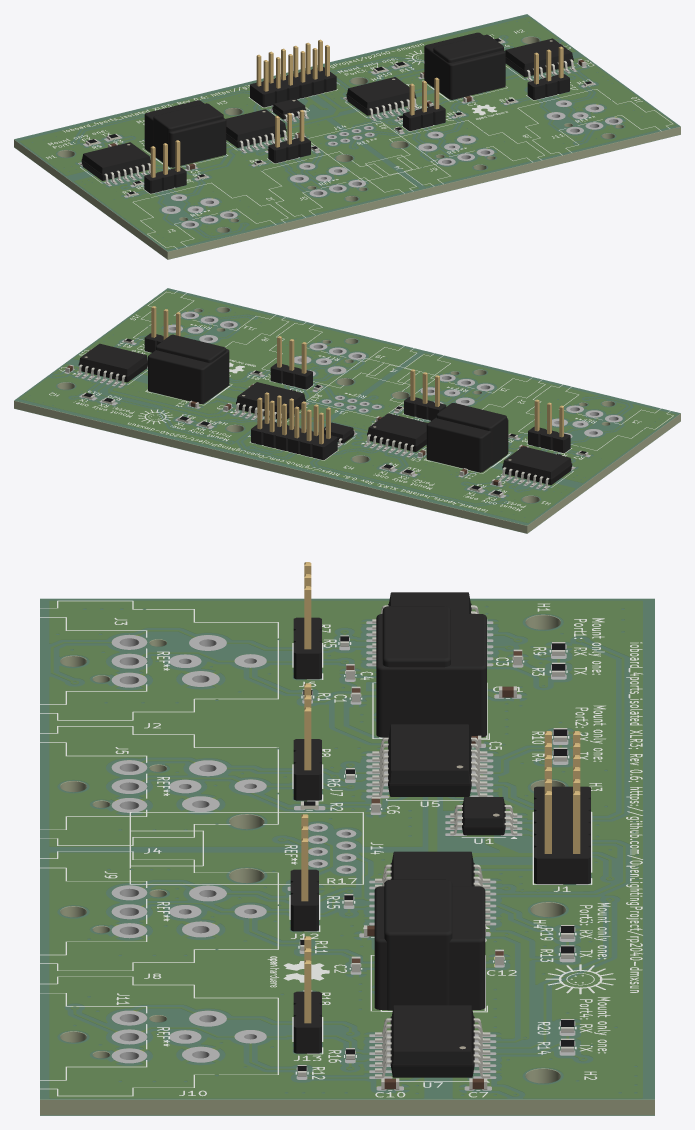
File: board.glb
The picture shows the model from 3 angles, top to bottom: view 1: azimuth 30°, elevation 25°; view 2: azimuth 150°, elevation 25°; view 3: azimuth 270°, elevation 25°; orthographic projection. The views are drawn at different scales.
Visible parts, largest first — view 1: board_soldermask (×2), board_copper, board_PCB, SOIC-16W_7.5x10.3mm_P1.27mm (×4), Converter_DCDC_muRata_CRE1xxxxxxDC_THT (×2), PinHeader_1x03_P254mm_Vertical (×4), board_silkscreen, board_pad, PinHeader_2x06_P254mm_Vertical, Converter_DCDC_muRata_CRE1xxxxxx3C_THT (×2), SOIC-8_3.9x4.9mm_P1.27mm; view 2: board_soldermask (×2), board_copper, board_PCB, SOIC-16W_7.5x10.3mm_P1.27mm (×4), Converter_DCDC_muRata_CRE1xxxxxxDC_THT (×2), board_silkscreen, PinHeader_1x03_P254mm_Vertical (×4), board_pad, PinHeader_2x06_P254mm_Vertical, Converter_DCDC_muRata_CRE1xxxxxx3C_THT (×2), SOIC-8_3.9x4.9mm_P1.27mm; view 3: board_soldermask, board_copper, board_PCB, SOIC-16W_7.5x10.3mm_P1.27mm (×4), board_pad, board_silkscreen, Converter_DCDC_muRata_CRE1xxxxxxDC_THT (×2), Converter_DCDC_muRata_CRE1xxxxxx3C_THT (×2), PinHeader_1x03_P254mm_Vertical (×4), PinHeader_2x06_P254mm_Vertical, SOIC-8_3.9x4.9mm_P1.27mm.
Part boxes in pixels (x1,y1,x2,y2): board_soldermask (×2): [14, 14, 680, 259]; board_copper: [20, 17, 675, 248]; board_PCB: [14, 15, 680, 259]; SOIC-16W_7.5x10.3mm_P1.27mm (×4): [79, 38, 575, 184]; Converter_DCDC_muRata_CRE1xxxxxxDC_THT (×2): [144, 32, 505, 167]; PinHeader_1x03_P254mm_Vertical (×4): [144, 46, 569, 193]; board_silkscreen: [46, 29, 672, 249]; board_pad: [78, 40, 622, 228]; PinHeader_2x06_P254mm_Vertical: [250, 39, 336, 107]; Converter_DCDC_muRata_CRE1xxxxxx3C_THT (×2): [153, 34, 503, 166]; SOIC-8_3.9x4.9mm_P1.27mm: [270, 98, 307, 121]; board_soldermask (×2): [14, 288, 680, 533]; board_copper: [19, 291, 674, 522]; board_PCB: [14, 289, 680, 533]; SOIC-16W_7.5x10.3mm_P1.27mm (×4): [76, 343, 574, 488]; Converter_DCDC_muRata_CRE1xxxxxxDC_THT (×2): [148, 349, 508, 472]; board_silkscreen: [49, 290, 673, 512]; PinHeader_1x03_P254mm_Vertical (×4): [144, 306, 570, 452]; board_pad: [64, 311, 622, 497]; PinHeader_2x06_P254mm_Vertical: [251, 392, 337, 459]; Converter_DCDC_muRata_CRE1xxxxxx3C_THT (×2): [155, 334, 506, 465]; SOIC-8_3.9x4.9mm_P1.27mm: [324, 422, 355, 445]; board_soldermask: [40, 598, 654, 1099]; board_copper: [50, 601, 642, 1097]; board_PCB: [40, 599, 654, 1115]; SOIC-16W_7.5x10.3mm_P1.27mm (×4): [372, 592, 490, 1078]; board_pad: [111, 621, 575, 1090]; board_silkscreen: [40, 600, 642, 1097]; Converter_DCDC_muRata_CRE1xxxxxxDC_THT (×2): [374, 614, 486, 1009]; Converter_DCDC_muRata_CRE1xxxxxx3C_THT (×2): [382, 606, 452, 1010]; PinHeader_1x03_P254mm_Vertical (×4): [290, 562, 321, 1053]; PinHeader_2x06_P254mm_Vertical: [534, 731, 590, 884]; SOIC-8_3.9x4.9mm_P1.27mm: [450, 797, 517, 835].
Bounding box in the file's own units: 0.106 × 0.0125 × 0.055.
